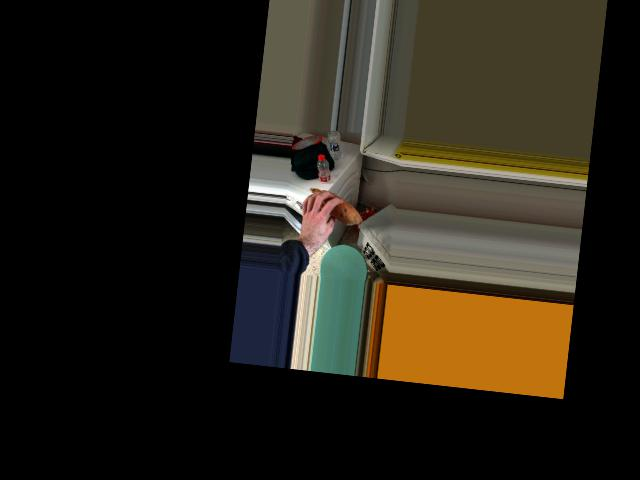sweet_potato: (303, 187, 363, 226)
